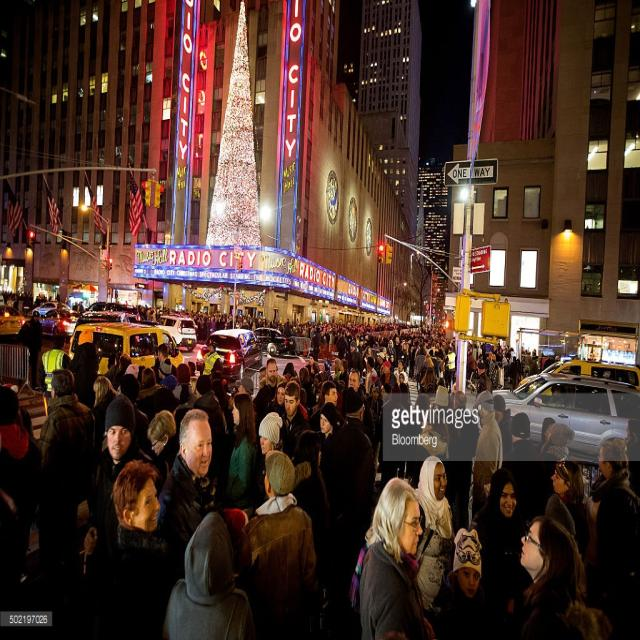body: (1, 282, 635, 488), (346, 476, 436, 639), (102, 456, 174, 639), (82, 392, 160, 556), (155, 408, 226, 582), (161, 510, 255, 640), (243, 447, 317, 598), (590, 429, 640, 639), (0, 383, 43, 613), (513, 512, 589, 639), (474, 466, 530, 605), (38, 368, 96, 498), (414, 454, 456, 610), (550, 454, 589, 565), (438, 526, 486, 616)
